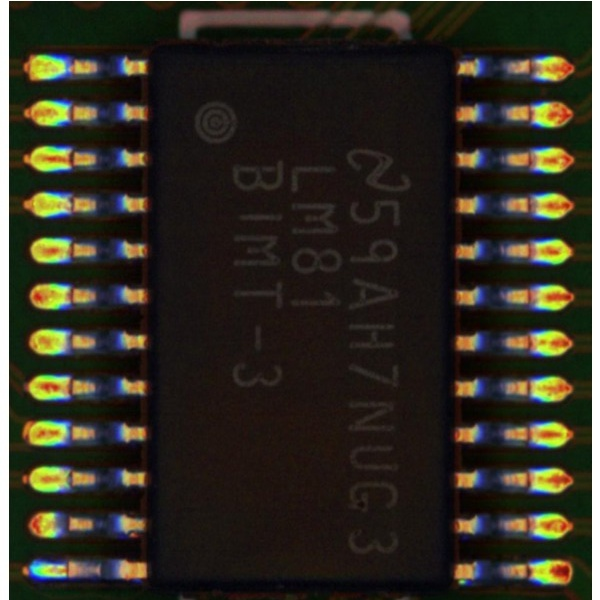Bad_podu: (55, 151, 85, 163), (519, 336, 545, 348), (54, 564, 79, 574)
